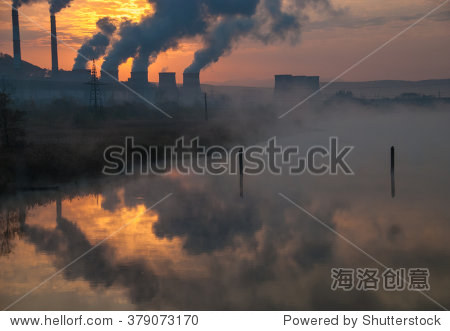dust: (180, 14, 246, 82), (129, 4, 177, 72), (98, 12, 133, 72), (62, 24, 103, 72), (41, 1, 74, 20), (3, 1, 38, 17)
